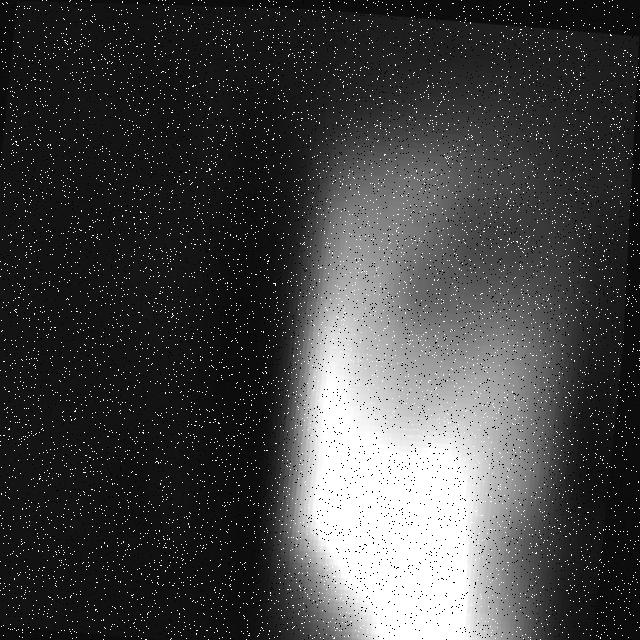person: (255, 54, 639, 640)
